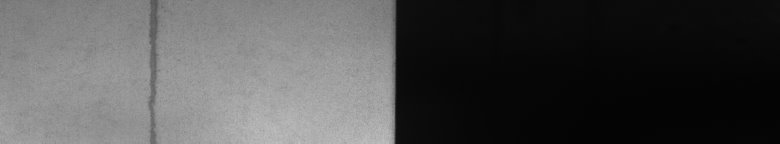hd: (144, 4, 166, 136)
